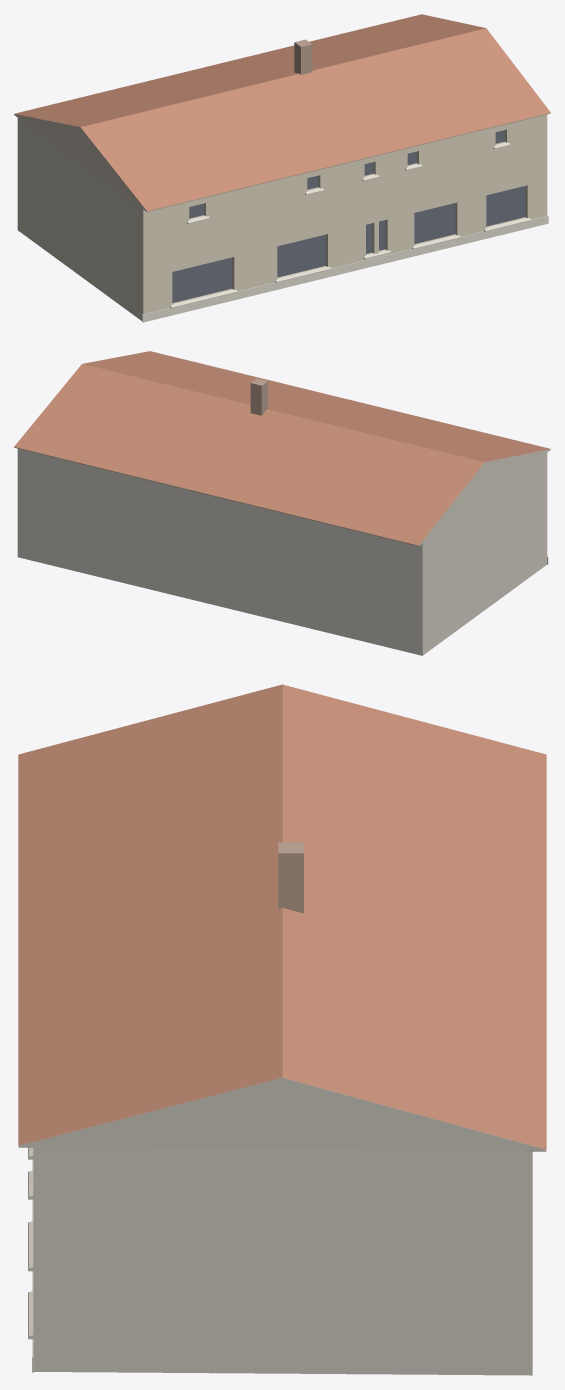
The picture shows the model from 3 angles, top to bottom: view 1: azimuth 30°, elevation 25°; view 2: azimuth 150°, elevation 25°; view 3: azimuth 270°, elevation 25°; orthographic projection. The views are drawn at different scales.
Parts seen in each view (by area): view 1: CP_523_a_Masonry, CP_523_a_Roof, CP_523_a_Cornice_plinth_0, CP_523_a_Gable_L_gable, CP_523_a_Roof_EaveClosure_0, CP_523_a_Chimney_0; view 2: CP_523_a_Masonry, CP_523_a_Roof, CP_523_a_Gable_L_gable, CP_523_a_Roof_EaveClosure_1, CP_523_a_Chimney_0; view 3: CP_523_a_Roof, CP_523_a_Masonry, CP_523_a_Gable_R_gable, CP_523_a_Chimney_0.
Boxes of the visible parts, box(x1,y1,x2,y2) form: CP_523_a_Masonry: box(17, 114, 547, 320); CP_523_a_Roof: box(14, 14, 550, 210); CP_523_a_Cornice_plinth_0: box(142, 215, 548, 322); CP_523_a_Gable_L_gable: box(14, 114, 150, 211); CP_523_a_Roof_EaveClosure_0: box(144, 113, 550, 211); CP_523_a_Chimney_0: box(294, 39, 312, 74); CP_523_a_Masonry: box(17, 449, 547, 655); CP_523_a_Roof: box(14, 351, 550, 545); CP_523_a_Gable_L_gable: box(413, 449, 550, 545); CP_523_a_Roof_EaveClosure_1: box(14, 447, 421, 546); CP_523_a_Chimney_0: box(250, 378, 268, 415); CP_523_a_Roof: box(18, 684, 546, 1149); CP_523_a_Masonry: box(33, 1146, 532, 1375); CP_523_a_Gable_R_gable: box(18, 1077, 546, 1150); CP_523_a_Chimney_0: box(278, 842, 303, 913).
Bounding box in the file's own units: 21.81 × 9 × 12.3.
